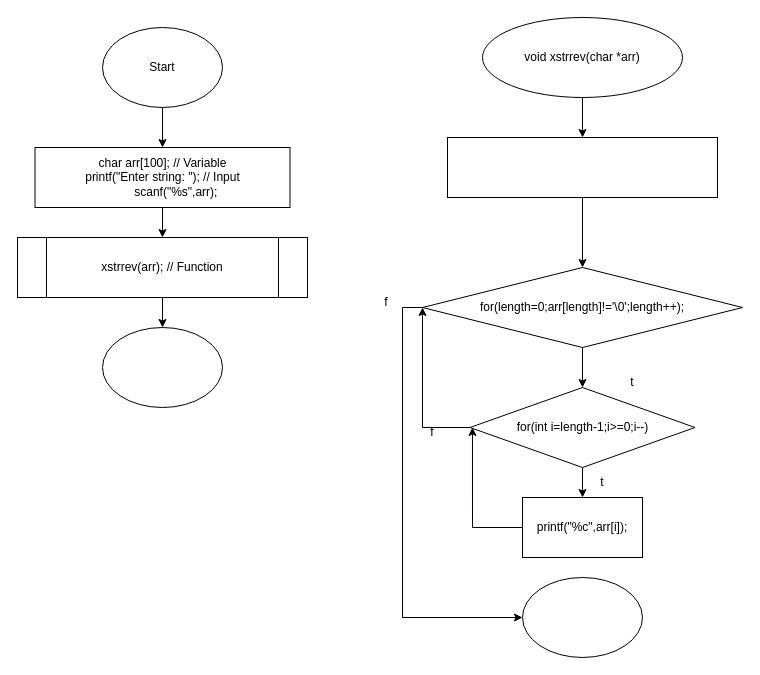
Image size: 760x675. Some labels were removed from this diagram. Each missing label, with the centre of its shape:
"End" belongs at point (162, 367).
"int length=0; // Length" belongs at point (582, 167).
"return" belongs at point (582, 617).
